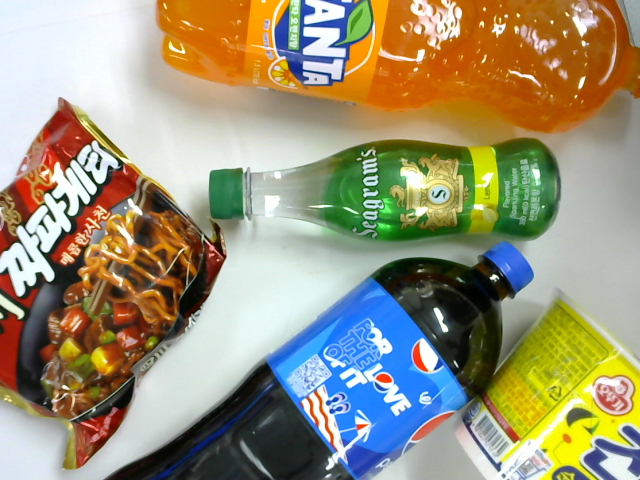Hwanta_Orange_1.5L: (148, 1, 640, 130)
Jinlamyeon_Mild_Taste_Large_Cup: (468, 290, 634, 480)
Pepsi_Cola_1.5L: (92, 252, 536, 480)
Seagram_Lemon_Carbonated_Water: (200, 129, 561, 240)
Sichuan_Chapaghetti: (1, 109, 233, 417)
